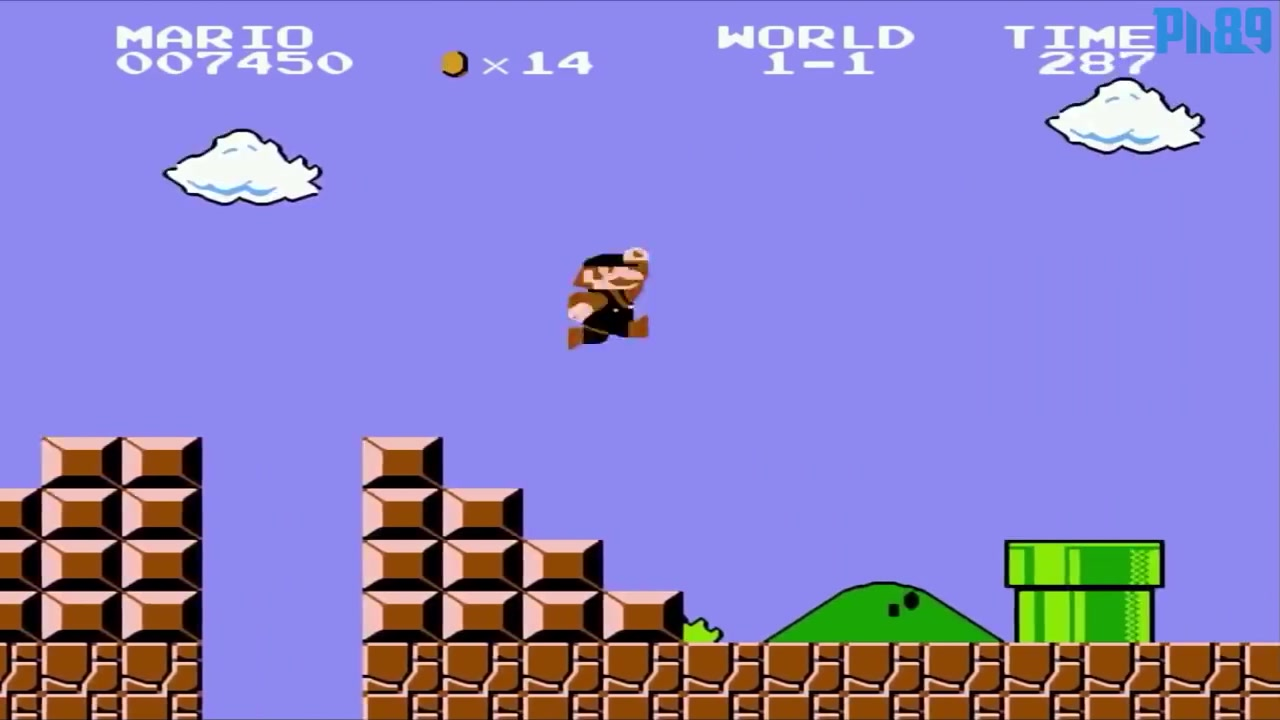mario: (567, 244, 663, 348)
